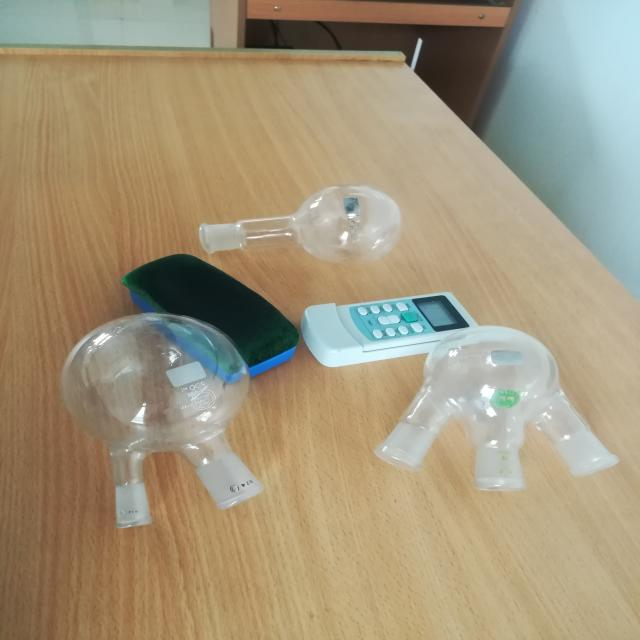Round_Bottom_Flask_Borosilicate_Glass_1_Neck: (162, 168, 440, 280)
Round_Bottom_Flask_Borosilicate_Glass_2_Neck: (20, 304, 299, 556)
Round_Bottom_Flask_Borosilicate_Glass_3_Neck: (368, 318, 638, 532)
